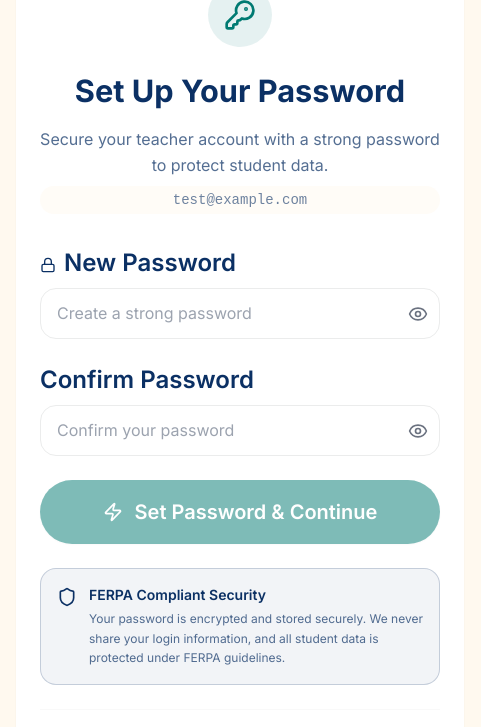
PasswordSetupFlow Component › Form Submission › handles network errors
This screenshot has width=481, height=727.
In the password field labelled "New Password": (240, 314) [40,288,440,339], type "StrongPass123!"
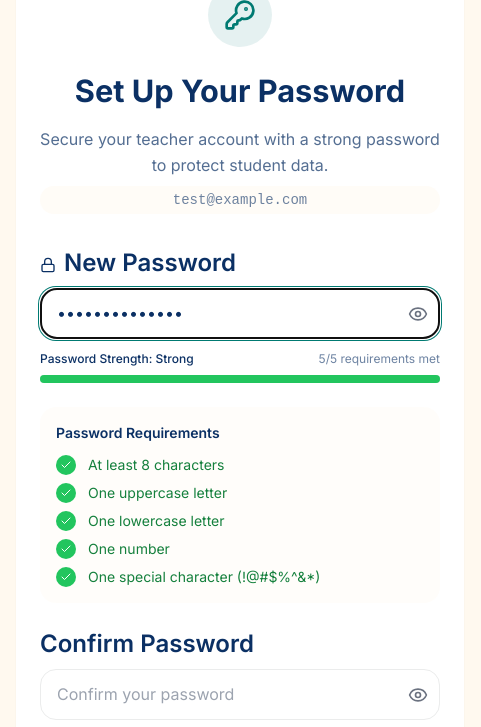
In the password field labelled "Confirm Password": (240, 695) [40,669,440,720], type "StrongPass123!"
(page scrolled)
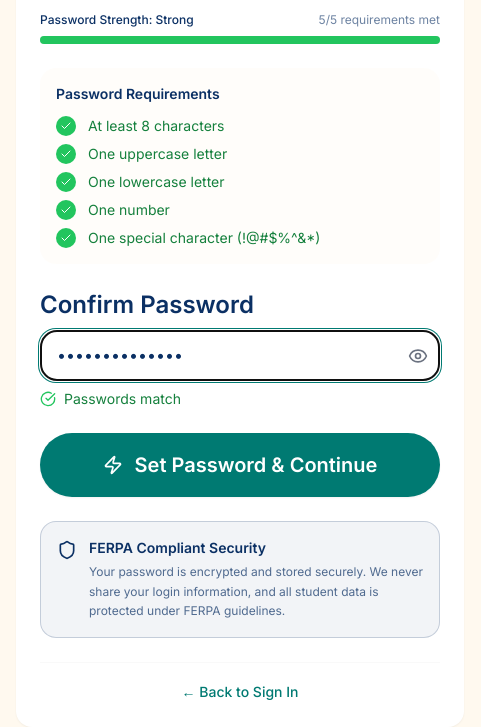
Click the button "Set Password & Continue": (240, 466) [40,434,440,498]
(page scrolled)
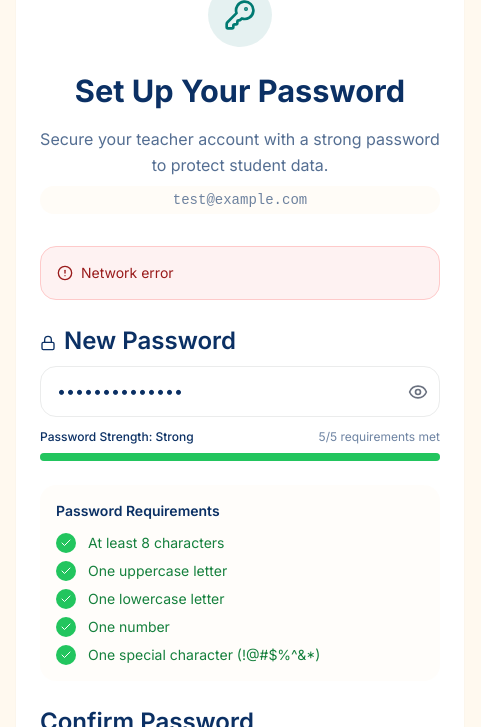
Expected: the text "Network error" is shown, [81,263,174,283]
